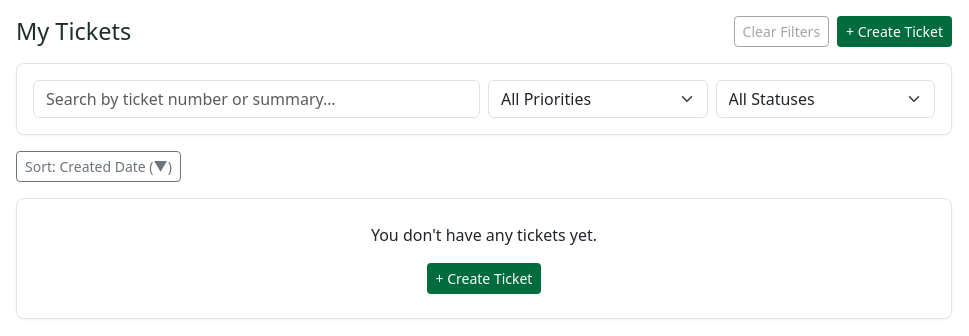
Scenario: TicketsPlaceholder (My Tickets) › Clear Filters is disabled with no active filters, enabled once one is set
Expected: the button "Clear Filters" is disabled, [734,16,829,47]
Type "laptop" into the field named "search tickets" at [256, 99], box [33,80,480,118]
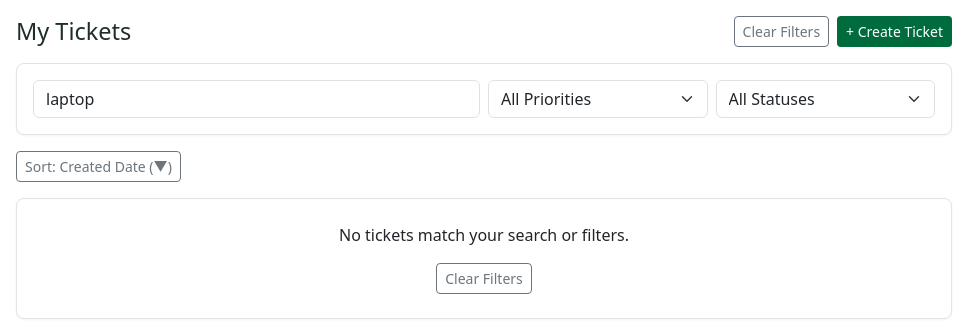
Expected: the button "Clear Filters" next to "+ Create Ticket" is enabled, [734,16,829,47]
